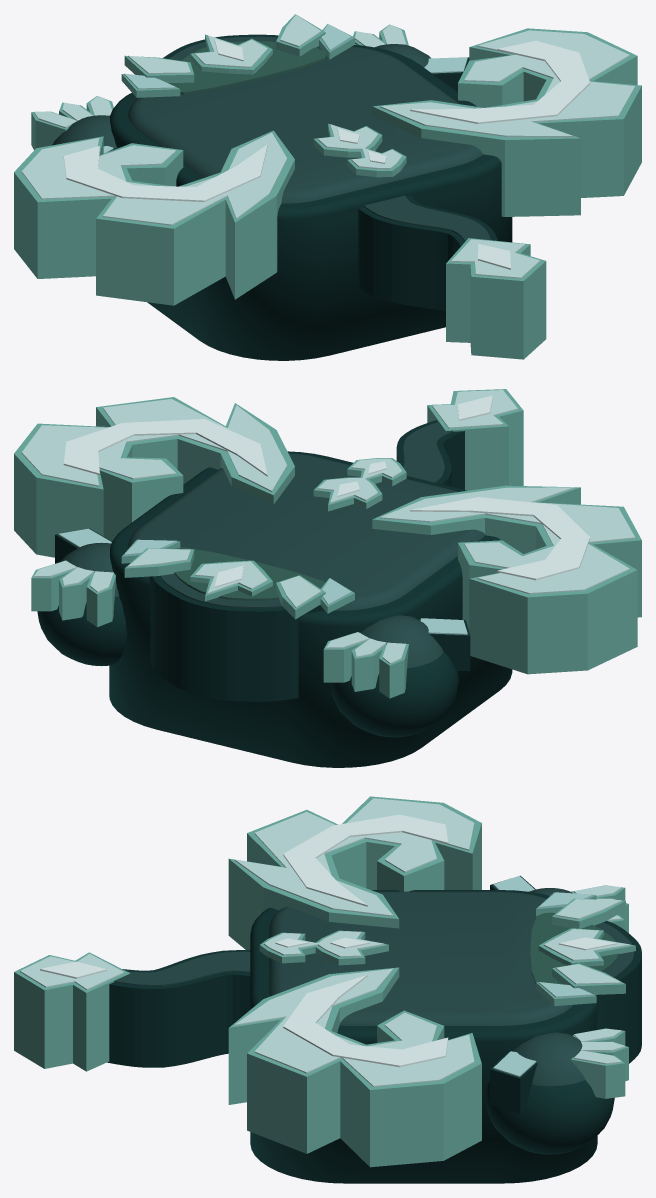
The model's file is body_wyvern_gelo.fbx.
3 renders of one model, top to bottom at view 1: azimuth 30°, elevation 25°; view 2: azimuth 150°, elevation 25°; view 3: azimuth 270°, elevation 25°, orthographic.
Parts seen in each view (by area): view 1: body_wyvern_gelo_corpo, body_wyvern_gelo_corpo_neon, body_wyvern_gelo_mao_esq, body_wyvern_gelo_mao; view 2: body_wyvern_gelo_corpo, body_wyvern_gelo_mao_esq, body_wyvern_gelo_corpo_neon, body_wyvern_gelo_mao; view 3: body_wyvern_gelo_corpo, body_wyvern_gelo_mao, body_wyvern_gelo_corpo_neon, body_wyvern_gelo_mao_esq.
Boxes of the visible parts, x1,y1,x2,y2 form: body_wyvern_gelo_corpo: [14, 14, 641, 360]; body_wyvern_gelo_corpo_neon: [63, 39, 589, 269]; body_wyvern_gelo_mao_esq: [31, 96, 117, 153]; body_wyvern_gelo_mao: [353, 24, 469, 91]; body_wyvern_gelo_corpo: [14, 389, 641, 767]; body_wyvern_gelo_mao_esq: [323, 615, 470, 737]; body_wyvern_gelo_corpo_neon: [63, 395, 589, 587]; body_wyvern_gelo_mao: [31, 528, 126, 666]; body_wyvern_gelo_corpo: [14, 796, 641, 1183]; body_wyvern_gelo_mao: [485, 1028, 628, 1154]; body_wyvern_gelo_corpo_neon: [40, 814, 616, 1067]; body_wyvern_gelo_mao_esq: [490, 875, 628, 932].
Bounding box in the file's own units: 8 × 2.16 × 7.23.
1 material, 1 textured.
